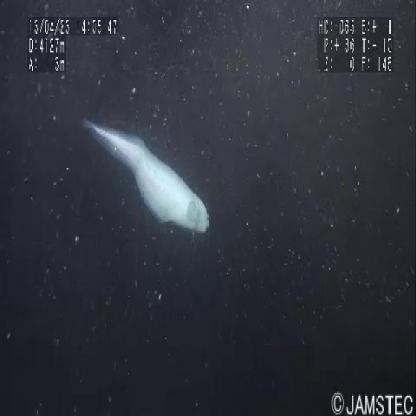Bio: (79, 111, 210, 246)
